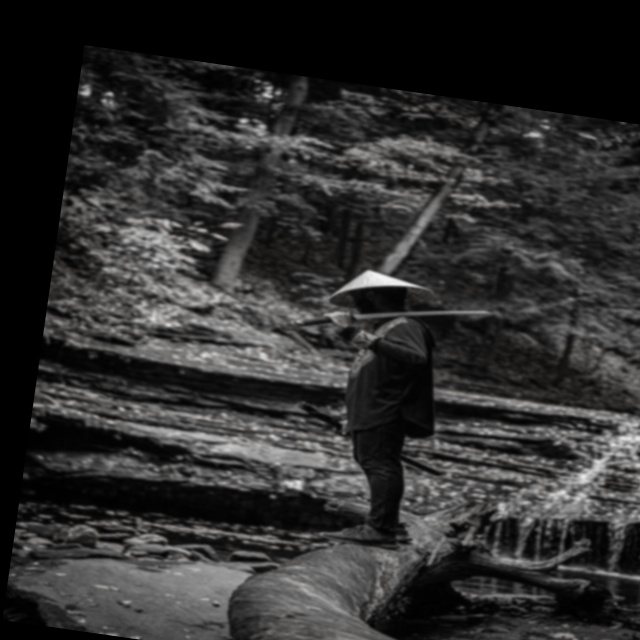Sharp-Object: (272, 276, 502, 363)
